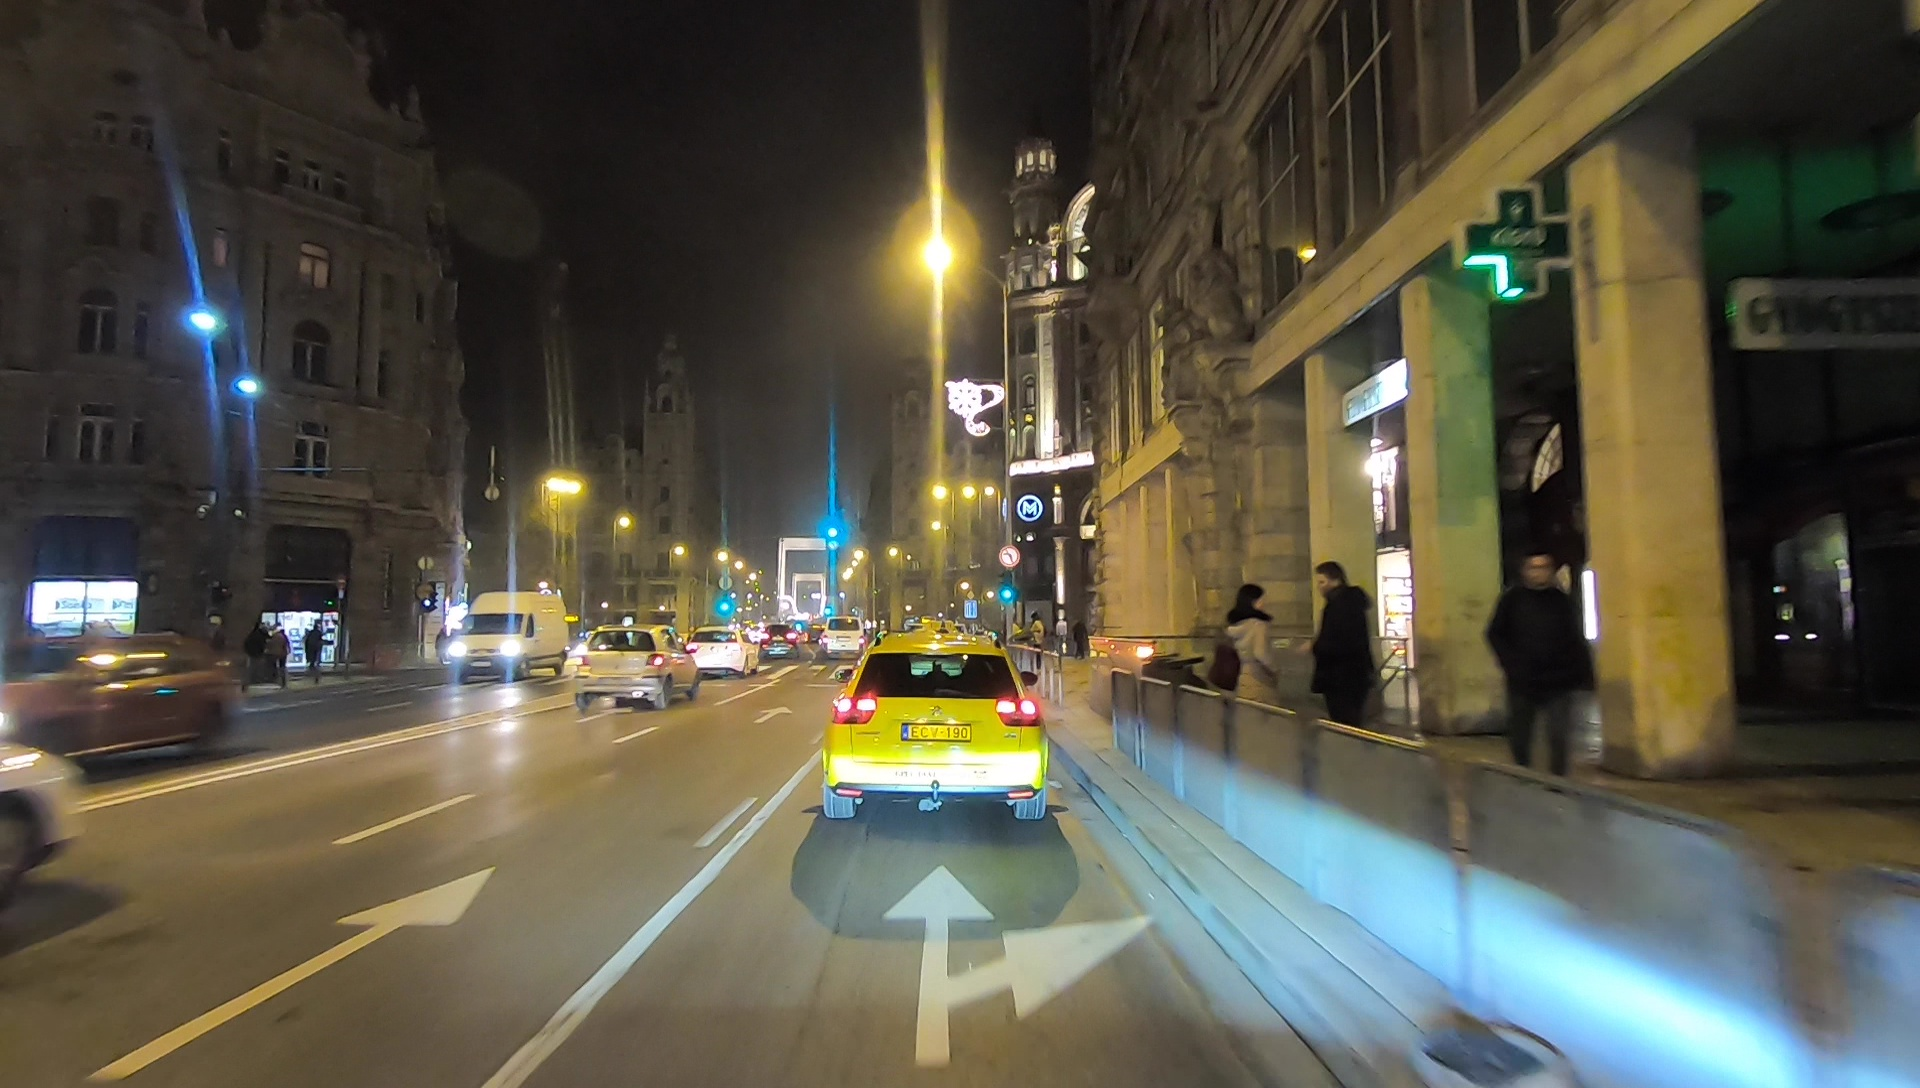person: (1484, 552, 1594, 828), (1301, 565, 1380, 773), (1214, 585, 1286, 777), (244, 620, 266, 682), (269, 625, 289, 684), (303, 622, 323, 678), (1029, 616, 1044, 669), (1070, 616, 1088, 661)
